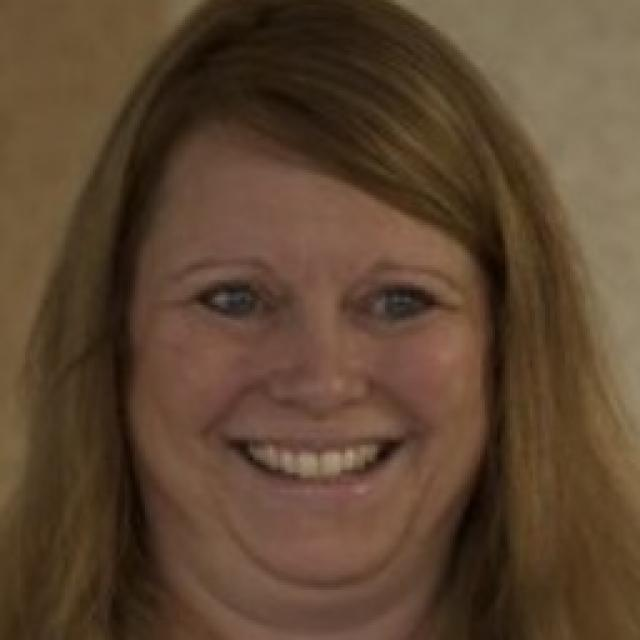no-glasses: (176, 261, 478, 358)
